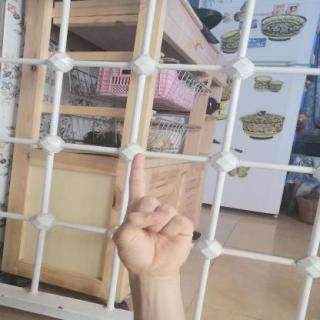BAA: (104, 148, 201, 283)
